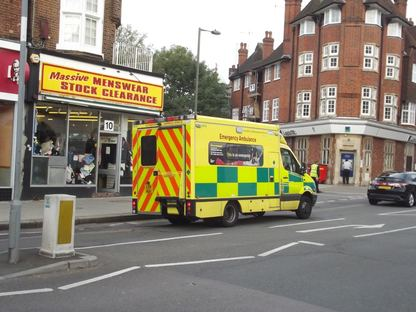ambulance: (131, 113, 318, 226)
